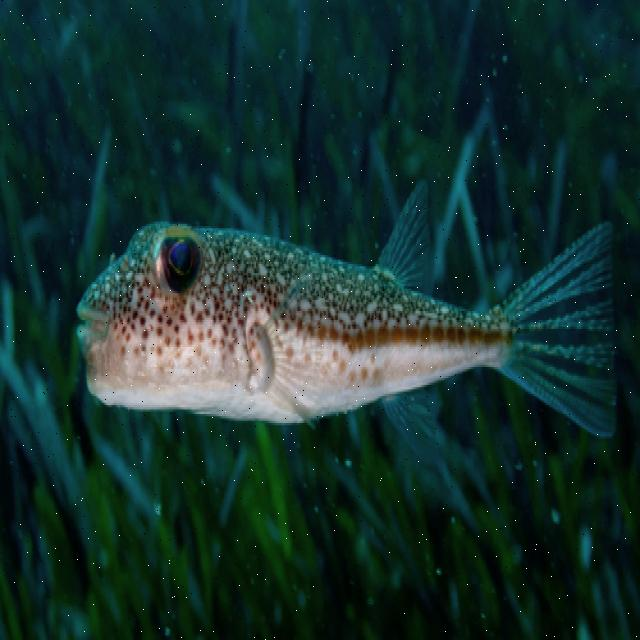Balik: (79, 184, 615, 436)
